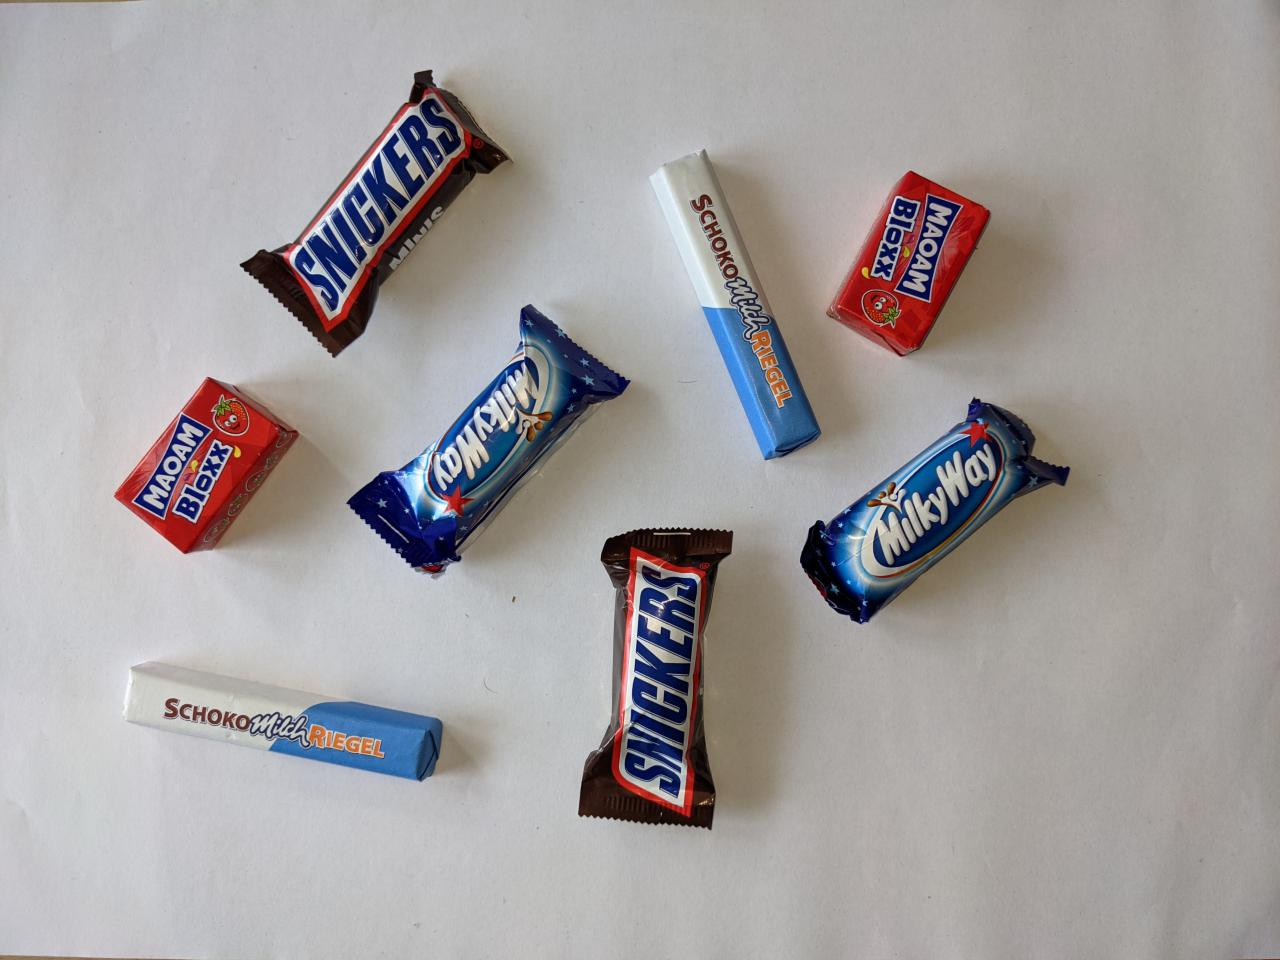MAOAM: (109, 373, 305, 558), (822, 166, 996, 363)
MilkyWay: (340, 299, 637, 587), (795, 390, 1078, 629)
Schokoriegel: (645, 144, 827, 467), (117, 655, 451, 788)
Snickers: (233, 66, 522, 366), (571, 523, 741, 833)
